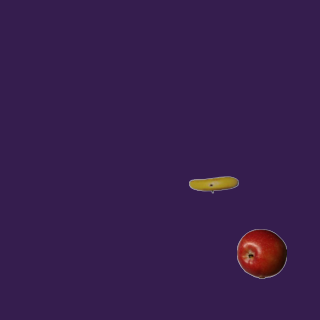Apple Braeburn: (236, 228, 286, 278)
Banana: (188, 159, 238, 209)
